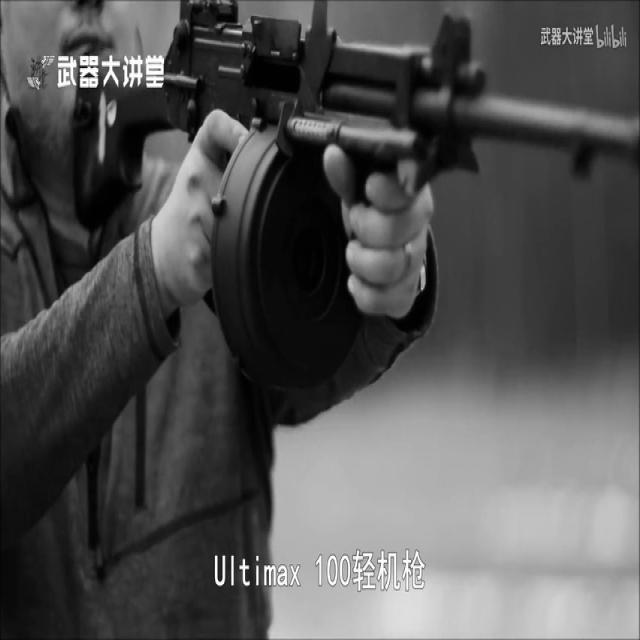Sub-machine-gun: (101, 68, 613, 394)
